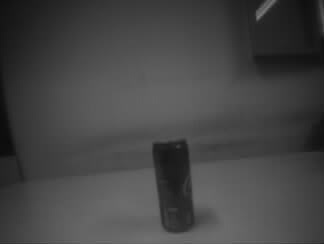Tin can: (151, 138, 195, 233)
